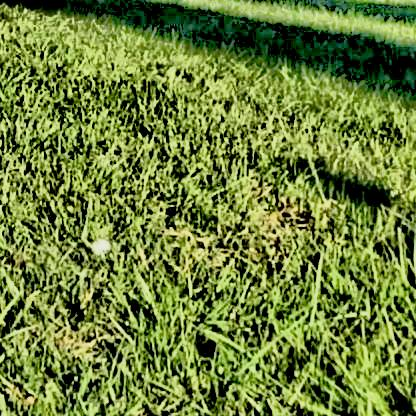golfball: (88, 234, 109, 253)
